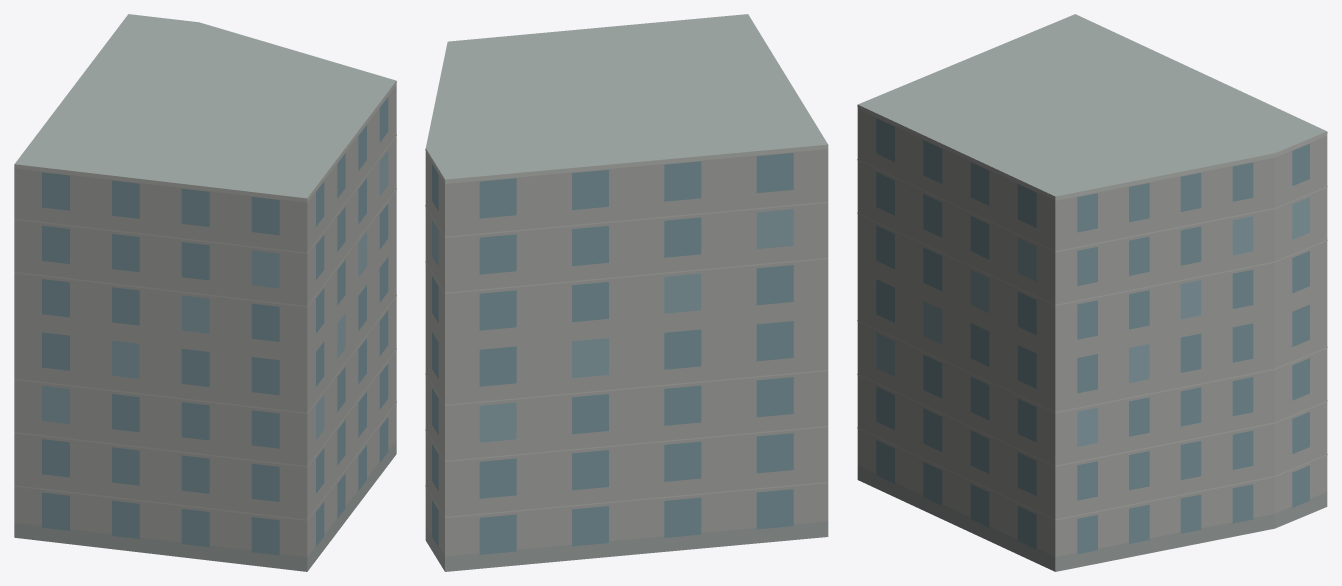
The model's file is residential-b6661d45-8d12-4efe-8fab-20a7ba8385a7.glb.
3 views of the same model, side by side, from view 1: azimuth 30°, elevation 25°; view 2: azimuth 150°, elevation 25°; view 3: azimuth 270°, elevation 25° (orthographic). The views are drawn at different scales.
Parts seen in each view (by area): view 1: residential-b6661d45-8d12-4efe-8fab-20a7ba8385a7.tmp; view 2: residential-b6661d45-8d12-4efe-8fab-20a7ba8385a7.tmp; view 3: residential-b6661d45-8d12-4efe-8fab-20a7ba8385a7.tmp.
Part boxes in pixels (x1,y1,x2,y2): residential-b6661d45-8d12-4efe-8fab-20a7ba8385a7.tmp: [14, 14, 396, 571]; residential-b6661d45-8d12-4efe-8fab-20a7ba8385a7.tmp: [425, 14, 828, 571]; residential-b6661d45-8d12-4efe-8fab-20a7ba8385a7.tmp: [857, 14, 1327, 571].
Bounding box in the file's own units: 22.29 × 21.35 × 24.23.
